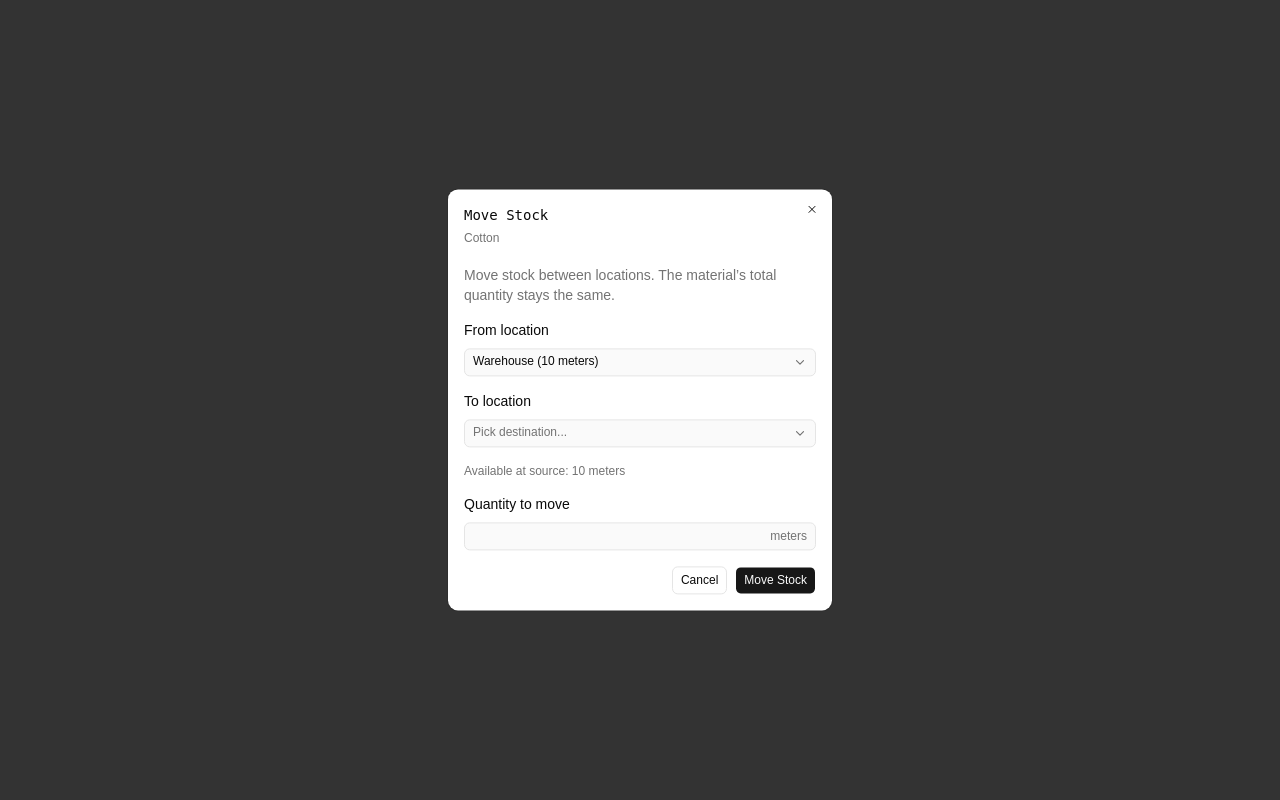
Test: move stock dialog › blocks an excessive quantity before sending the request
Click the dropdown named "To location" at (520, 433), box 464,419 -> 816,447
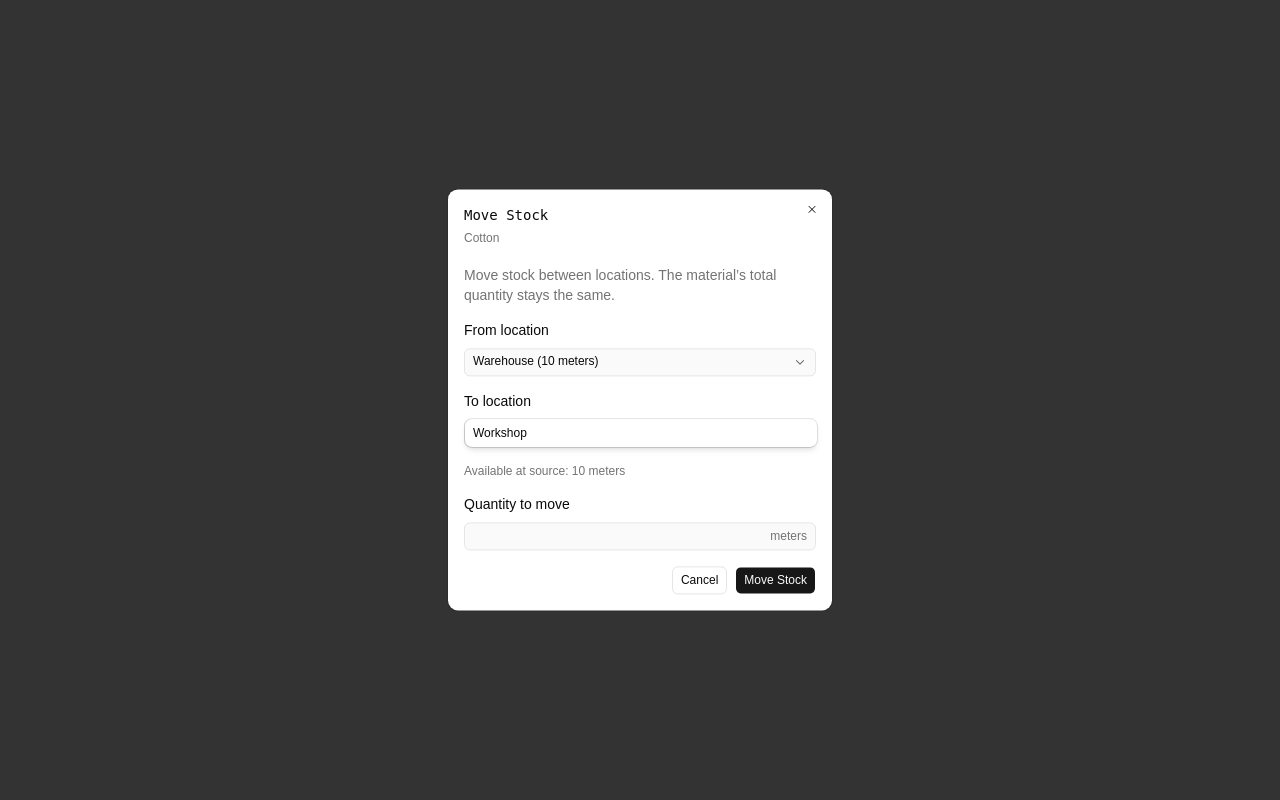
Click the option "Workshop" at (500, 433), box 473,426 -> 527,440
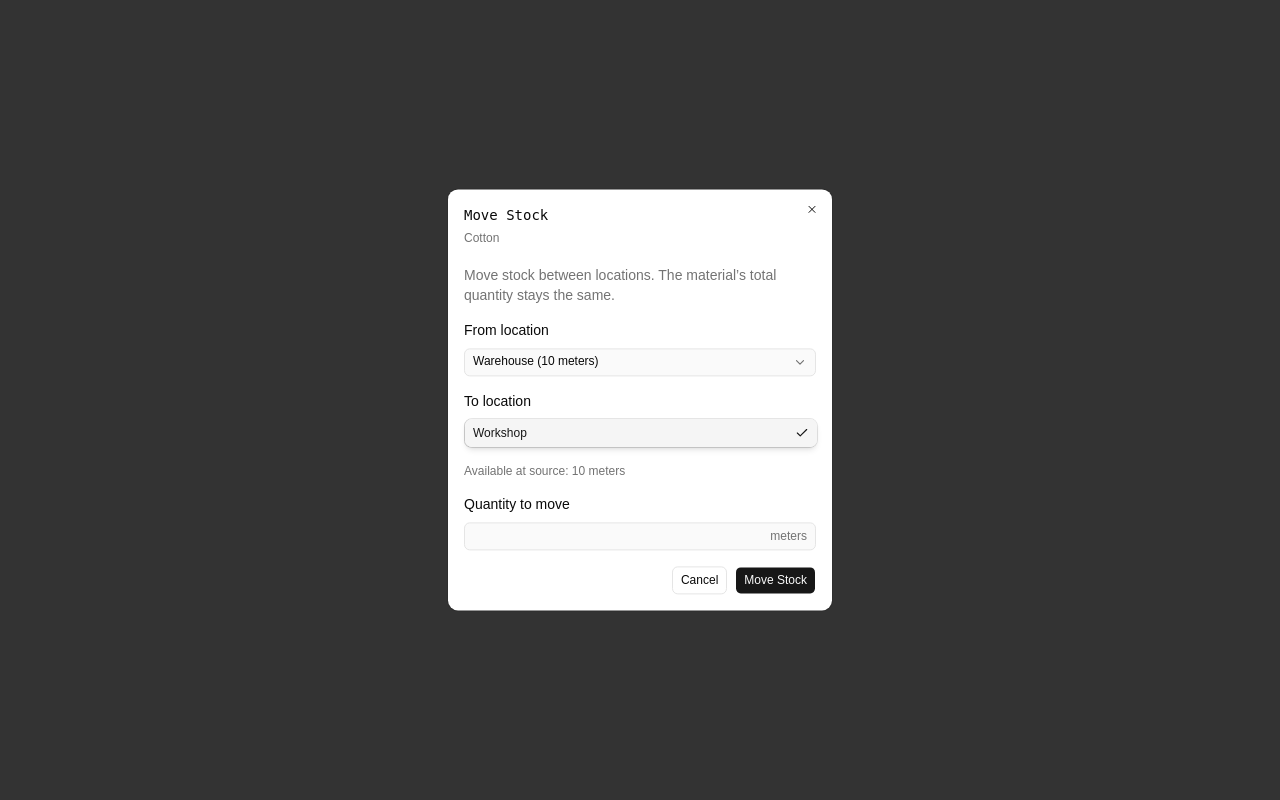
Type "11" into the field labelled "Quantity to move" at (618, 537), box 465,523 -> 770,551
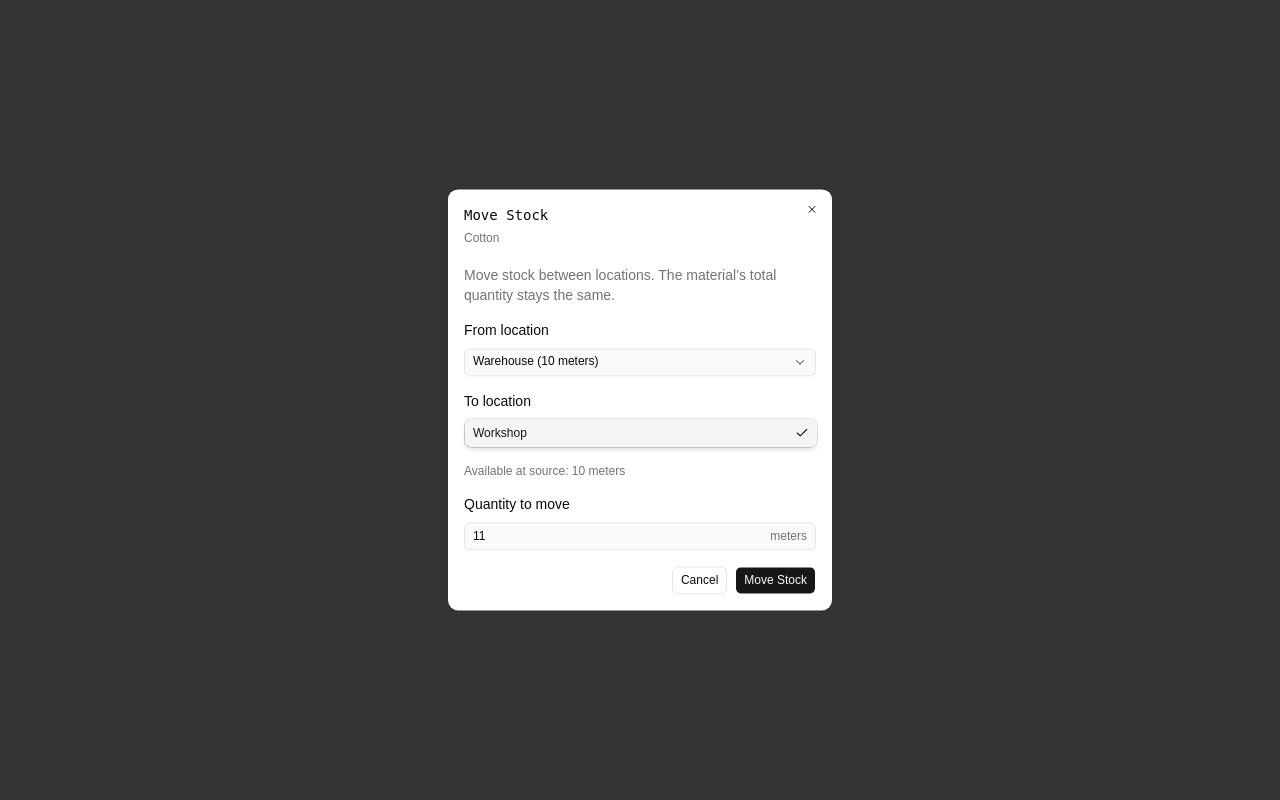
Click the button "Move Stock" at (776, 581), box 735,567 -> 816,595
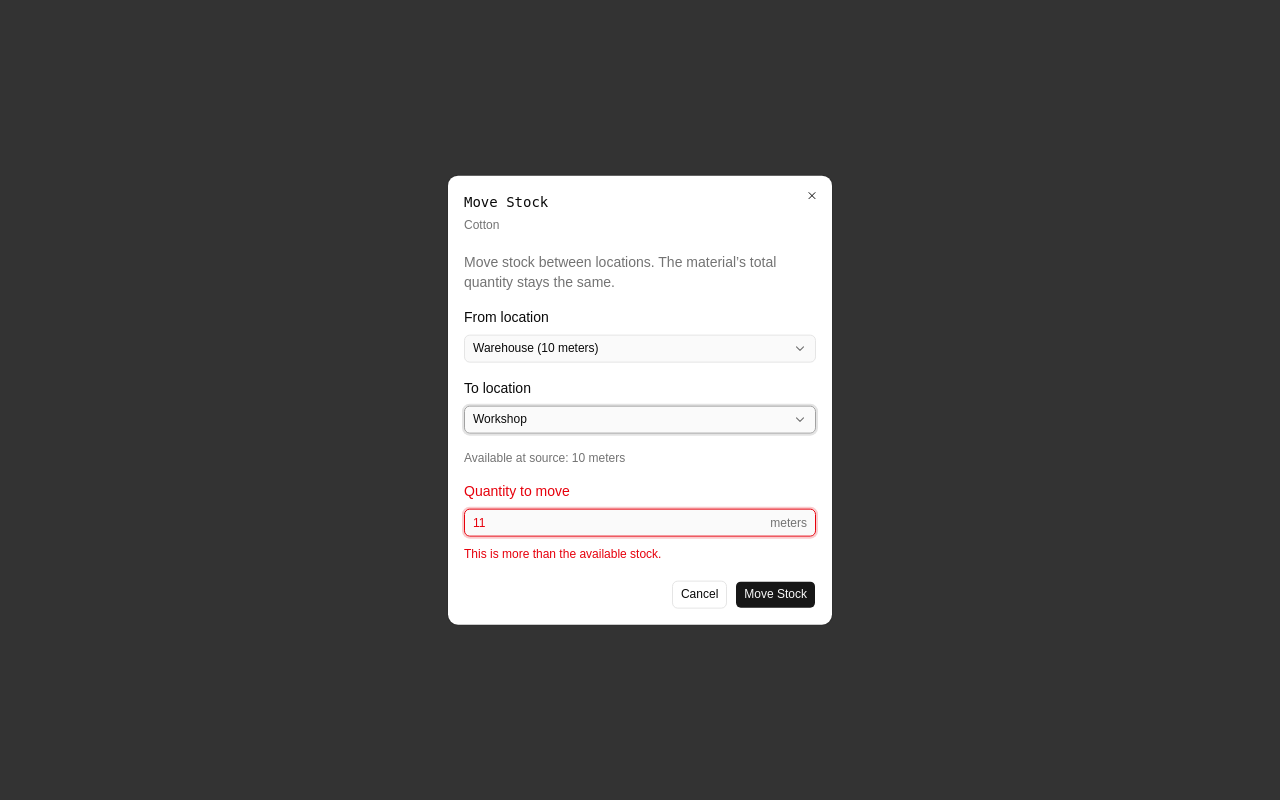
Expected: the text "This is more than the available stock." is shown, 464,547 -> 661,561
